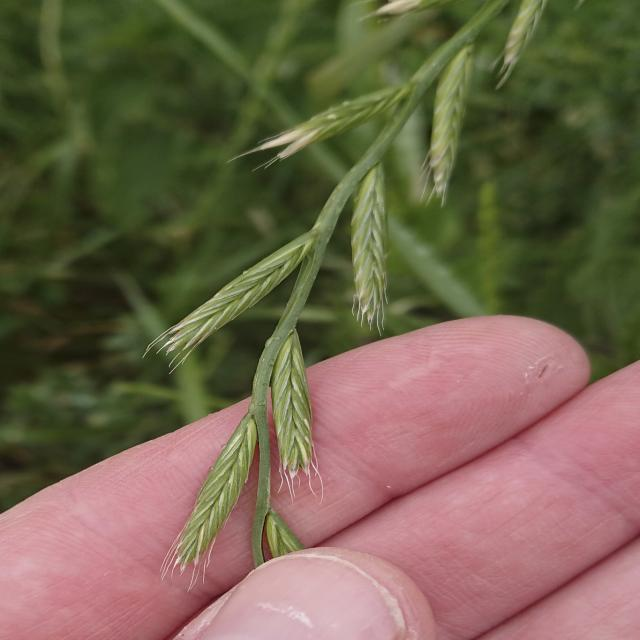Lolium: (140, 2, 557, 590)
